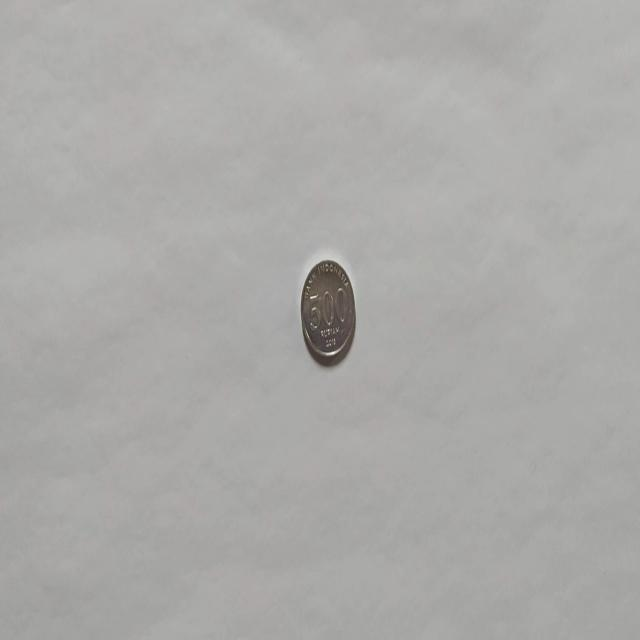lima ratus rupiah: (299, 256, 356, 366)
